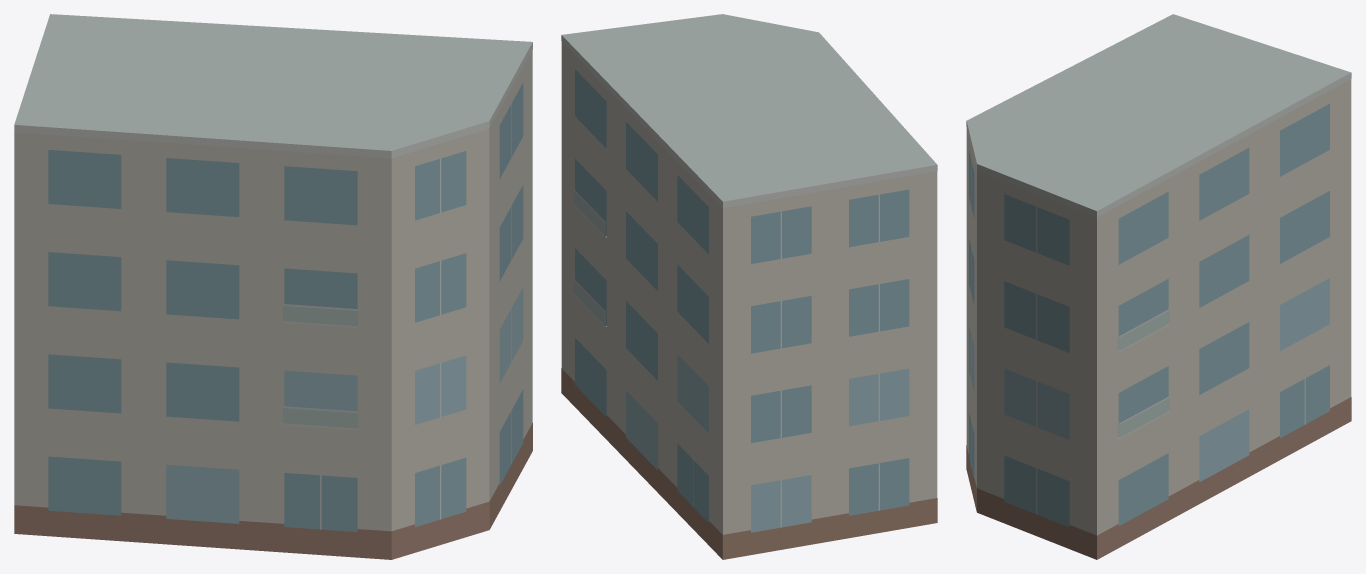
Rendered from survey-upis-32976038.glb.
The picture shows the model from 3 angles, left to right: view 1: azimuth 30°, elevation 25°; view 2: azimuth 150°, elevation 25°; view 3: azimuth 270°, elevation 25°; orthographic projection. The views are drawn at different scales.
Parts seen in each view (by area): view 1: survey-upis-32976038.tmp; view 2: survey-upis-32976038.tmp; view 3: survey-upis-32976038.tmp.
Part boxes in pixels (x1=…): survey-upis-32976038.tmp: x1=14, y1=14, x2=532, y2=559; survey-upis-32976038.tmp: x1=561, y1=14, x2=937, y2=559; survey-upis-32976038.tmp: x1=966, y1=14, x2=1351, y2=559.
Size of the model in its own units: 16.32 by 13.45 by 13.46.
